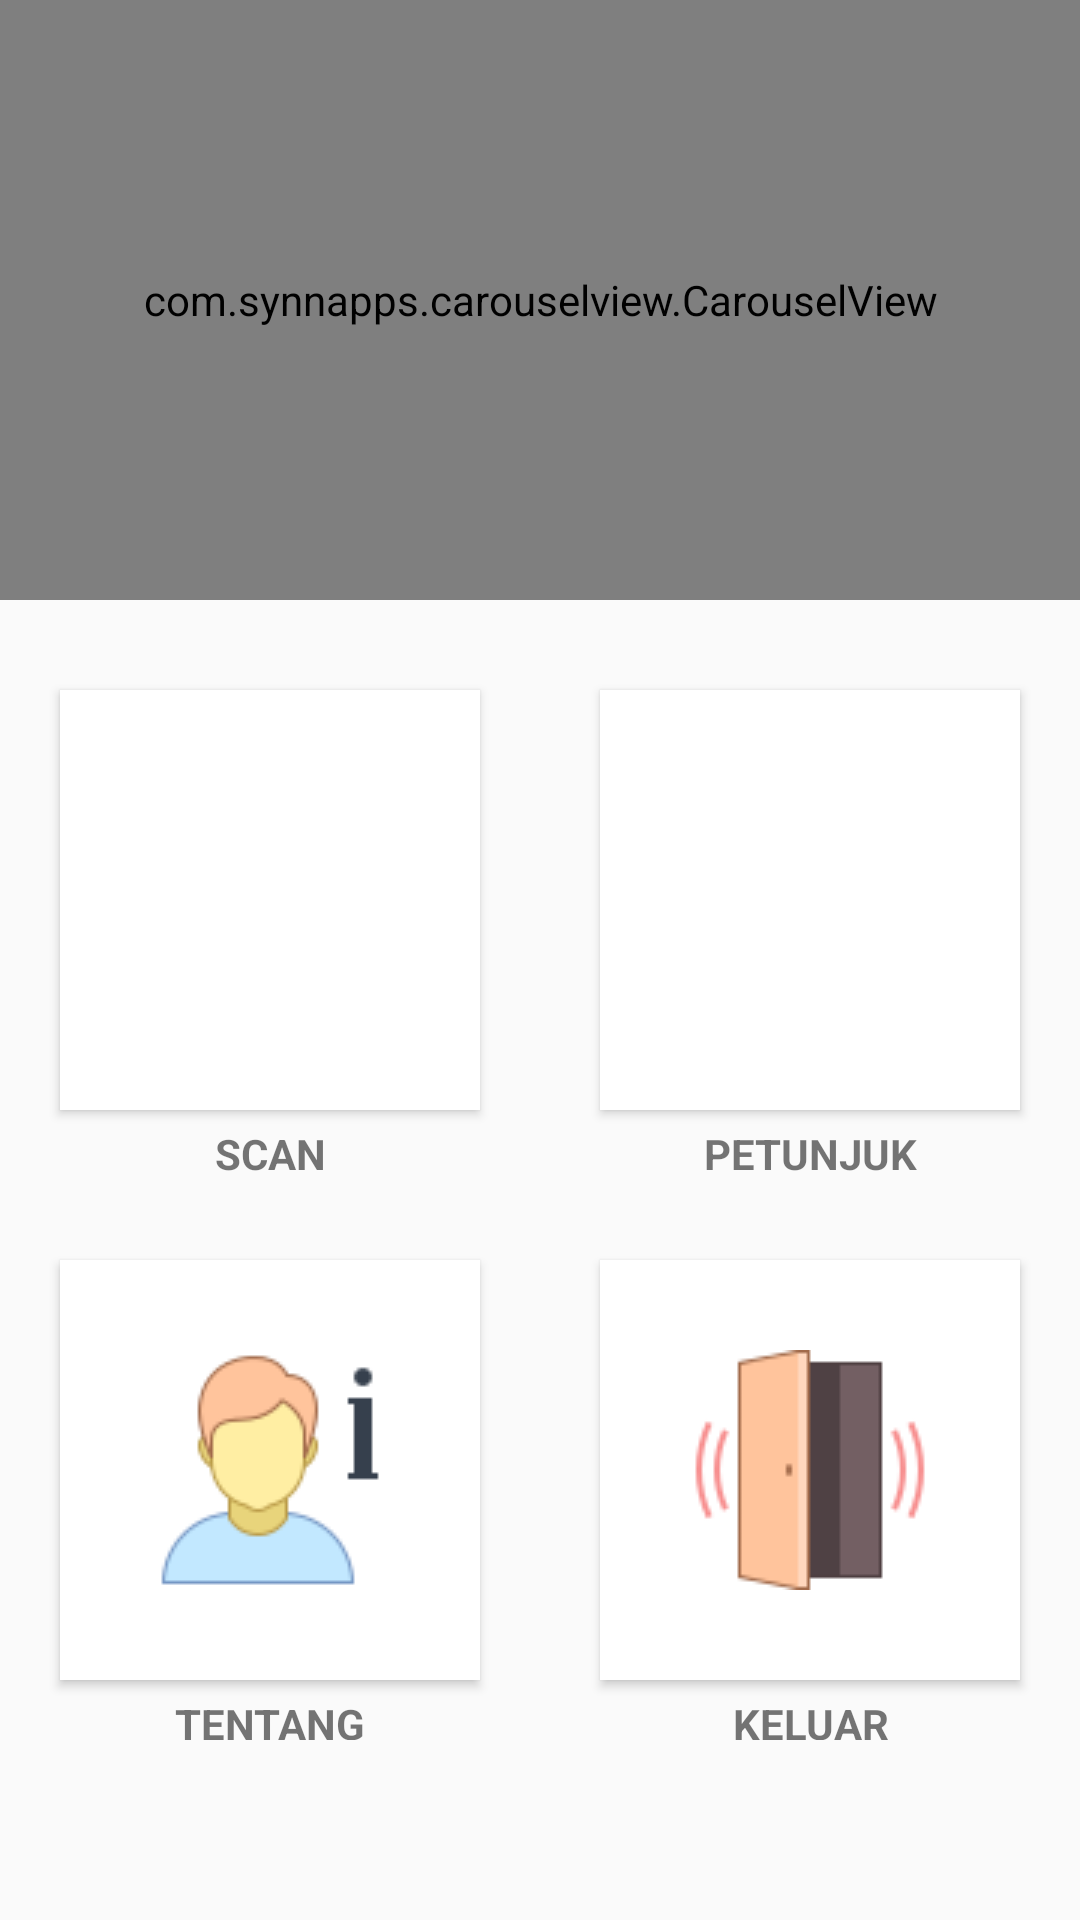

Screen size 1080×1920. Icon name, then its box in pixels as (x1, y1, x2, y2):
exit: (695, 1350, 925, 1590)
